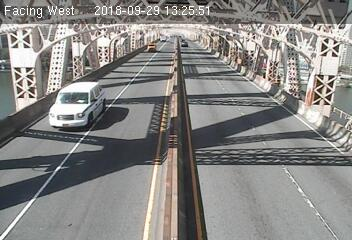car: (46, 81, 110, 133), (145, 41, 156, 52), (179, 37, 190, 48)
